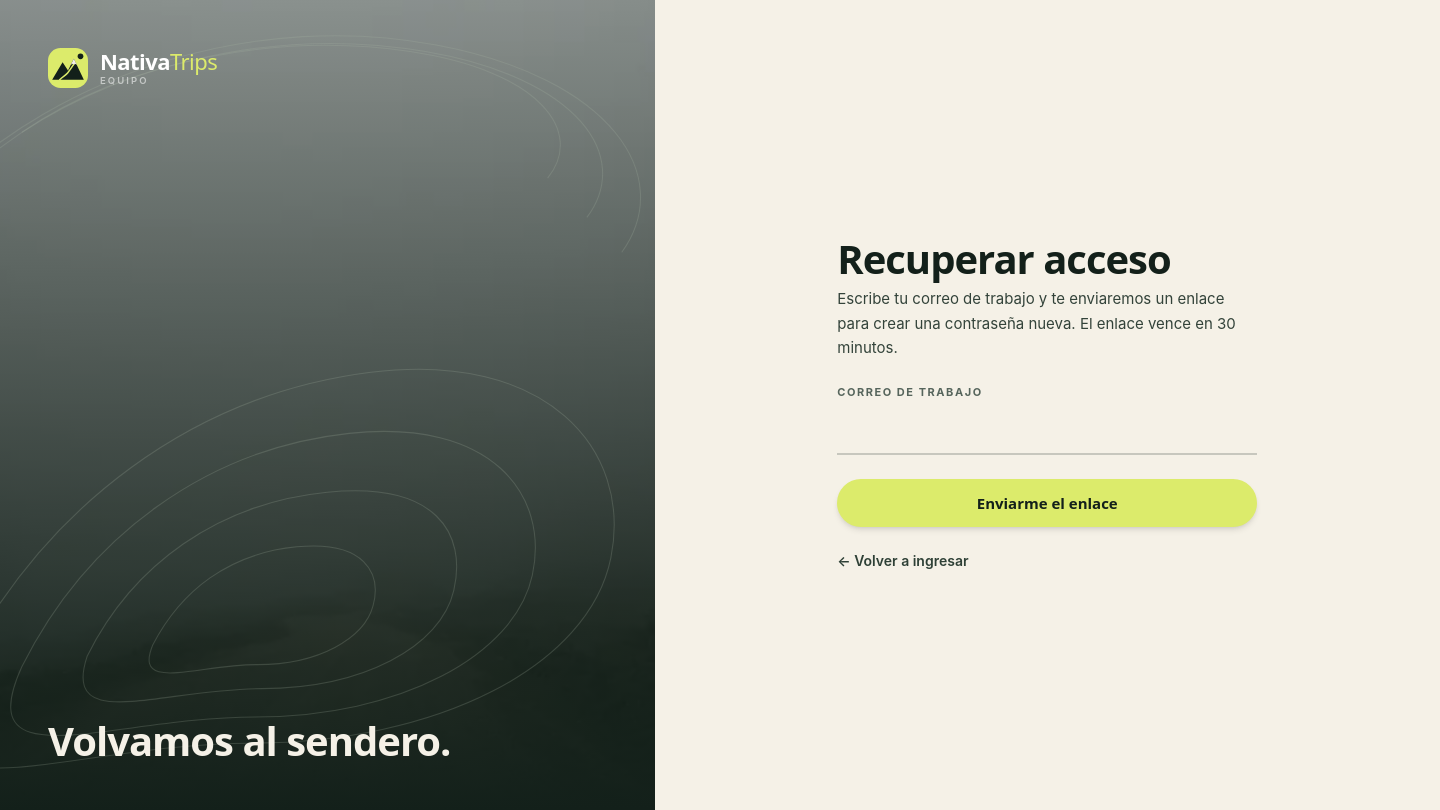
Scenario: recuperación de la contraseña › pide el enlace al servidor con el correo escrito
Type "andrea@ecopalacio.co" into the field labelled "Correo de trabajo" at (1047, 431), box [837,407,1257,455]
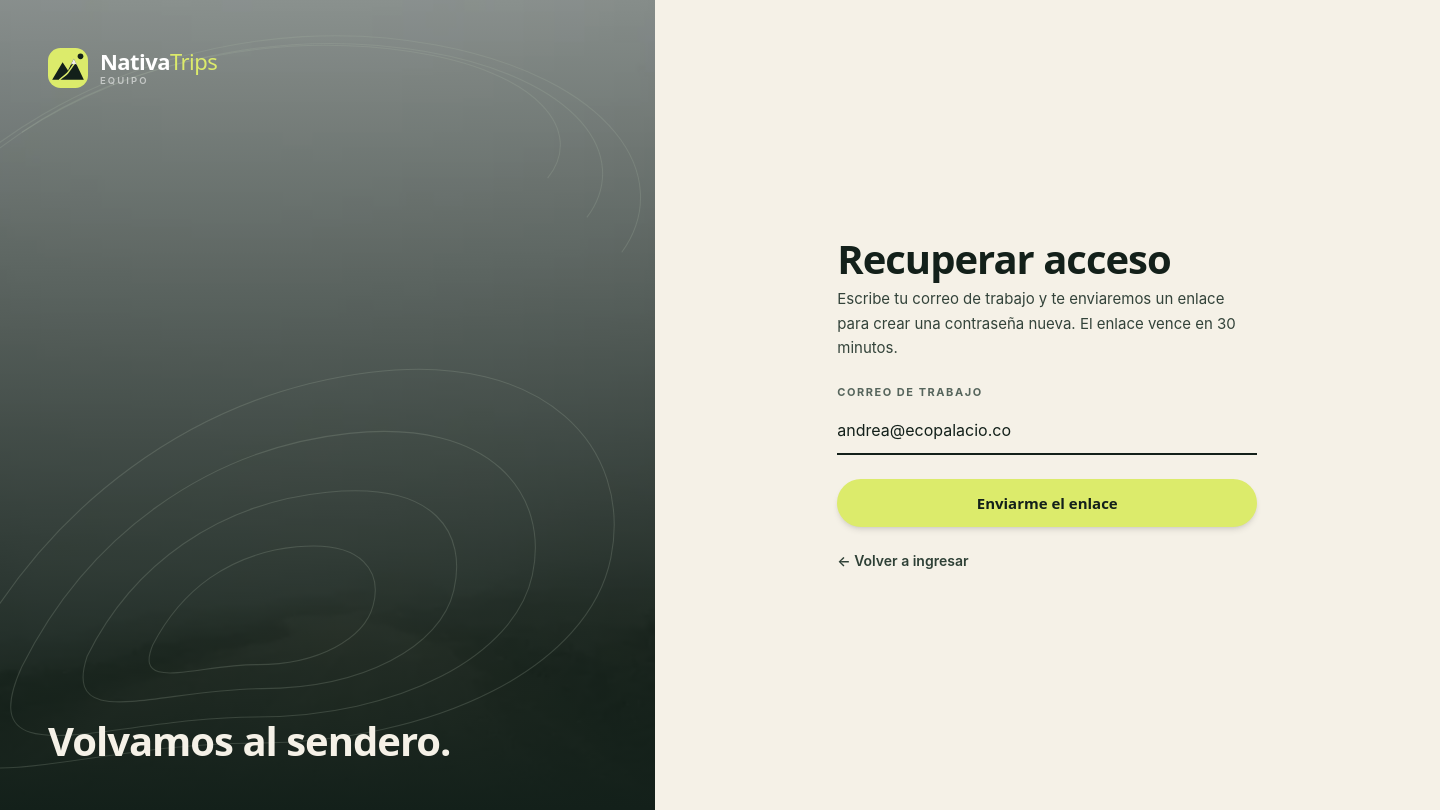
Click the button "Enviarme el enlace" at (1047, 503), box [837,479,1257,527]
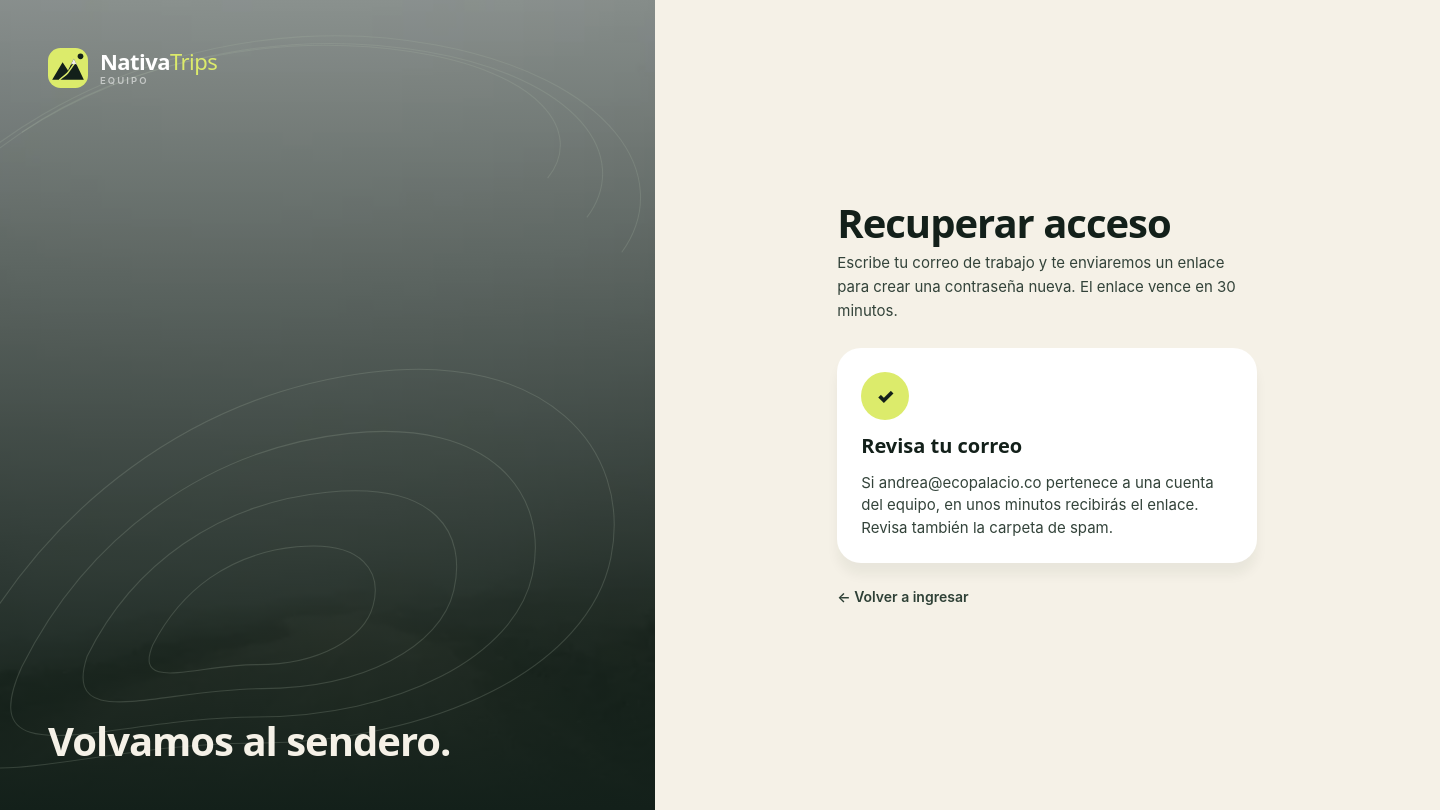
Expected: the message shows "Revisa tu correo", [861,432,1022,459]
